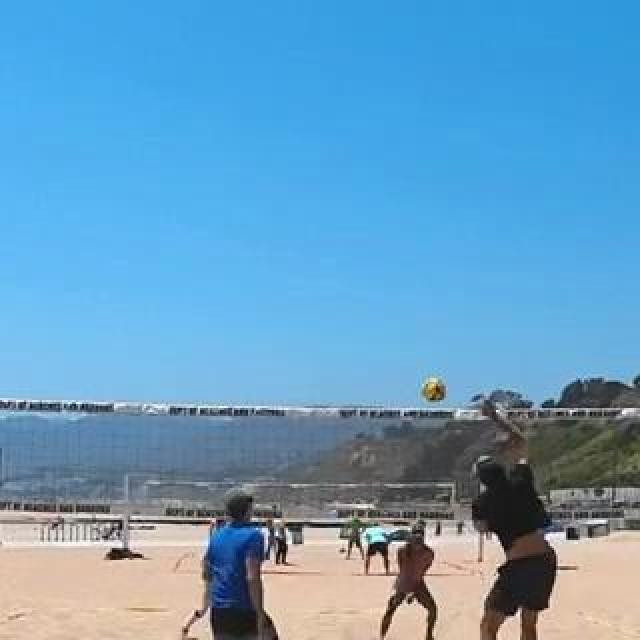volleyball: (423, 380, 449, 404)
